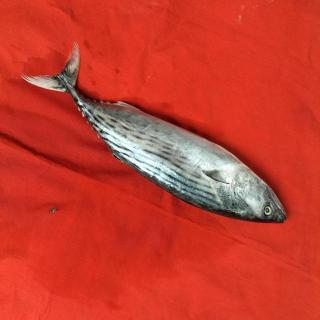Ikan: (23, 41, 296, 235)
